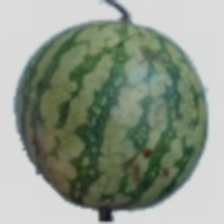watermelon: (28, 5, 172, 192)
